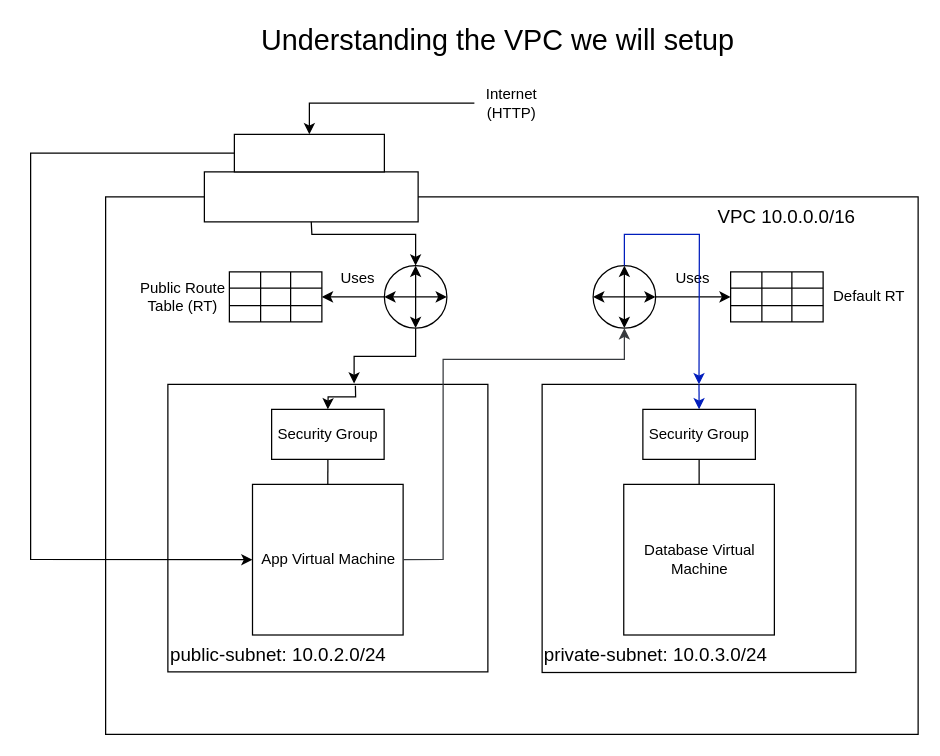
The diagram is 940 pixels wide and 756 high, and some of its shapes have lost their labels. The shapes that lost their labels are listed below. From the top down, each one's centre as x and y in pixels, then its label:
At point (308, 152): "Public IP".
At point (310, 196): "Internet Gateway".
